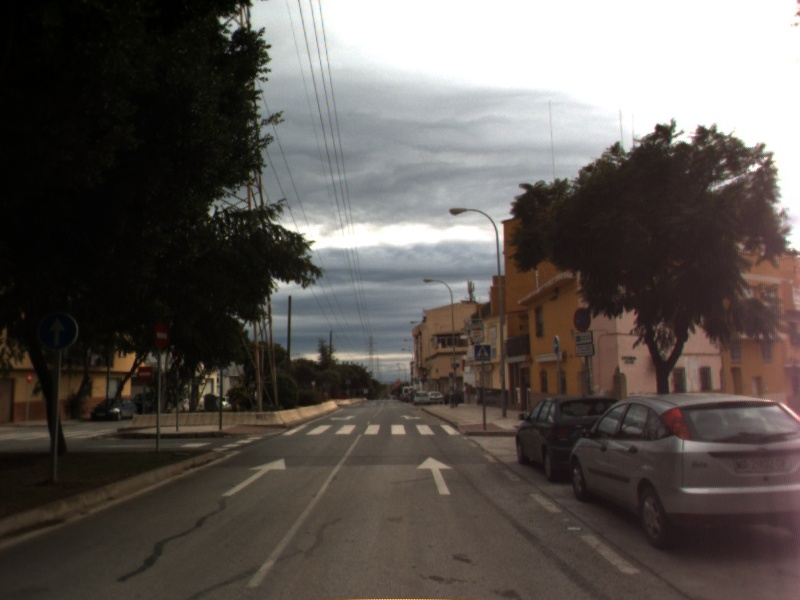STRAIGHT: (219, 456, 288, 498), (414, 454, 454, 497)
STRAIGHT_LEFT: (328, 414, 358, 422)
STRAIGHT_RIGHT: (399, 413, 424, 421)
